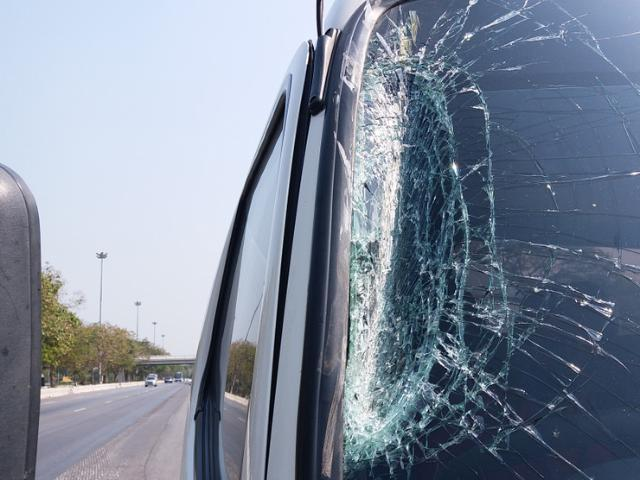Windshield: (326, 0, 640, 480)
